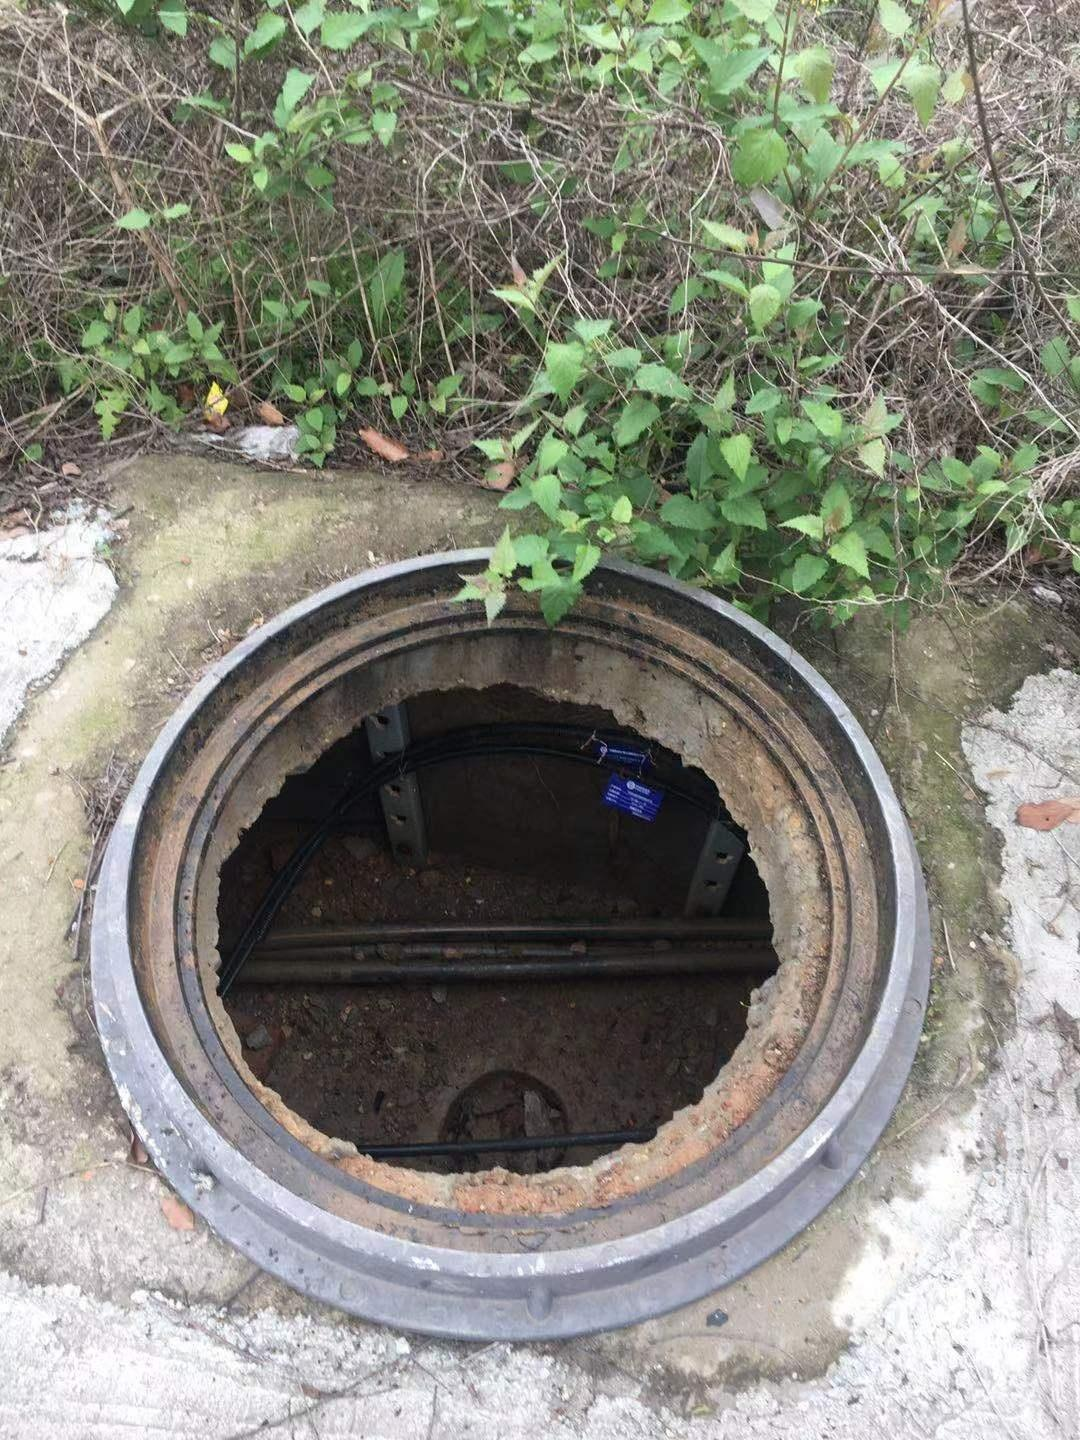wellcover: (93, 549, 921, 1350)
